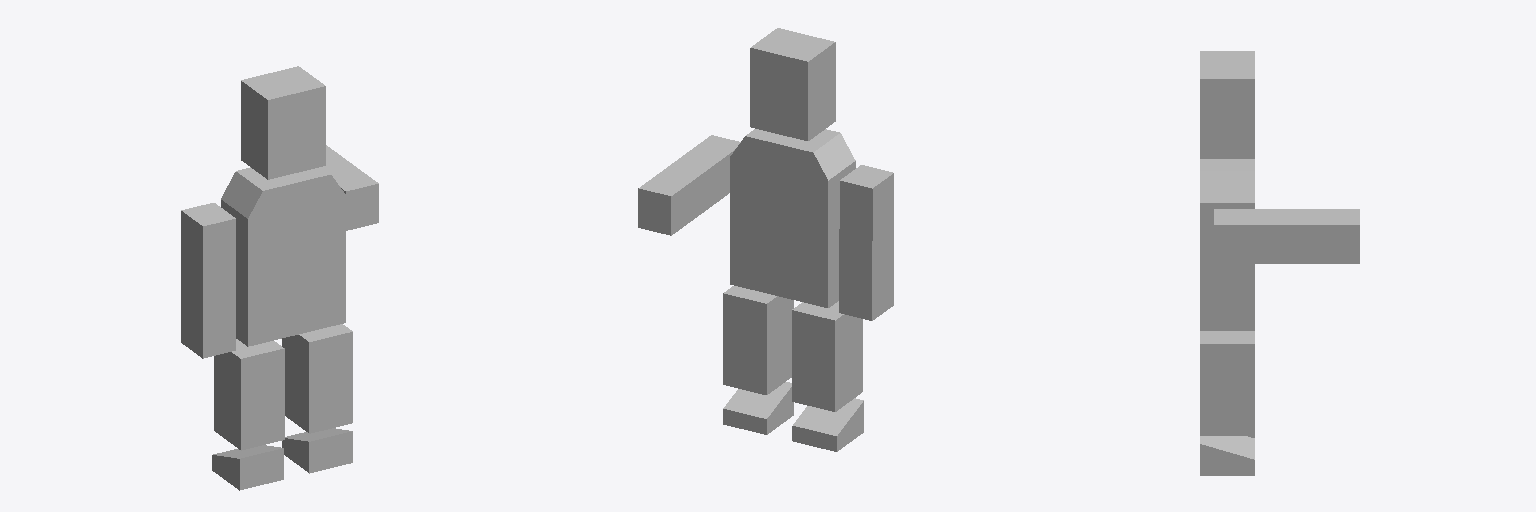
File: testdummymens.obj
The picture shows the model from 3 angles: view 1: azimuth 30°, elevation 25°; view 2: azimuth 150°, elevation 25°; view 3: azimuth 270°, elevation 25°; orthographic projection.
Parts seen in each view (by area): view 1: Box002; view 2: Box002; view 3: Box002.
Part boxes in pixels (bbox=[...]): Box002: bbox=[181, 66, 378, 490]; Box002: bbox=[638, 28, 893, 451]; Box002: bbox=[1200, 51, 1359, 475].
Bounding box in the file's own units: 1.9 × 3.88 × 1.46.